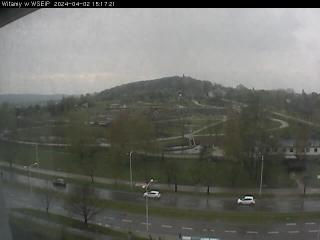car: (142, 188, 162, 200), (236, 194, 255, 206), (52, 177, 66, 187)
